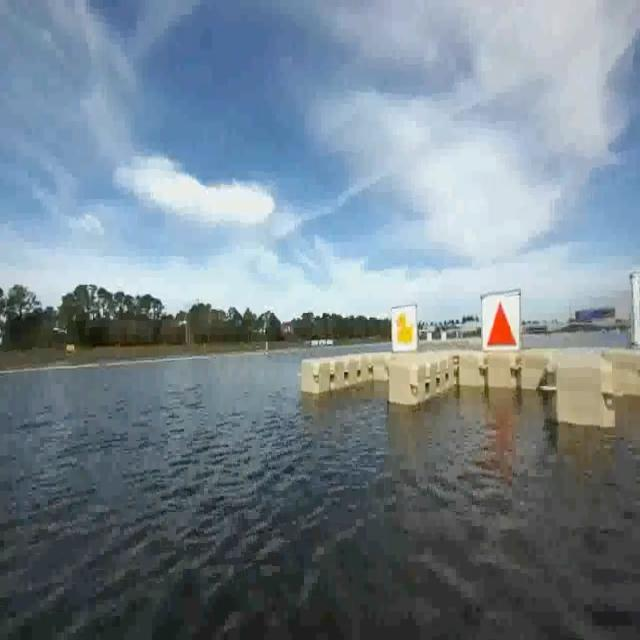red-dot: (480, 295, 517, 354)
yellow-duck: (389, 305, 417, 351)
